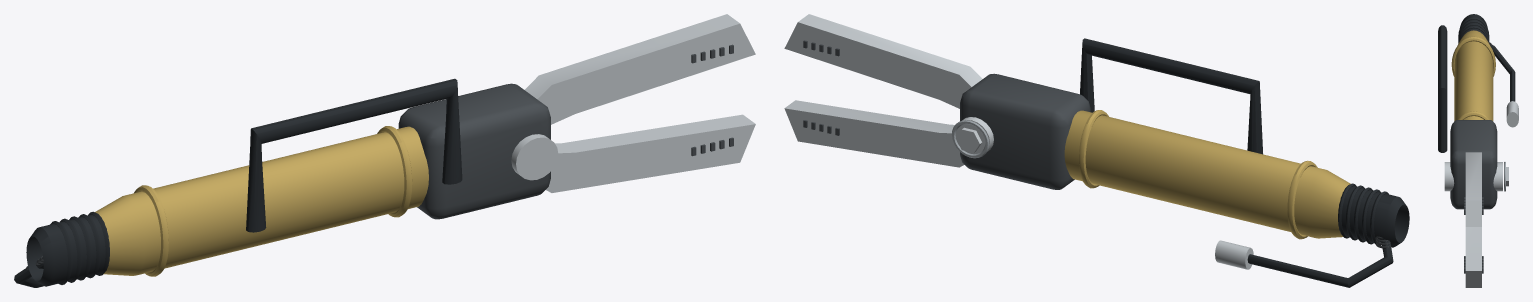
Rendered from ob_hydraulic_spreader.glb.
3 views of the same model, side by side, from view 1: azimuth 30°, elevation 25°; view 2: azimuth 150°, elevation 25°; view 3: azimuth 270°, elevation 25° (orthographic). The views are drawn at different scales.
Visible parts, largest first — view 1: ob_hydraulic_spreader; view 2: ob_hydraulic_spreader; view 3: ob_hydraulic_spreader.
Part boxes in pixels (x1,y1,x2,y2): ob_hydraulic_spreader: [14, 14, 755, 287]; ob_hydraulic_spreader: [784, 14, 1409, 287]; ob_hydraulic_spreader: [1438, 14, 1518, 287].
Size of the model in its own units: 0.84 by 0.19 by 0.13.
